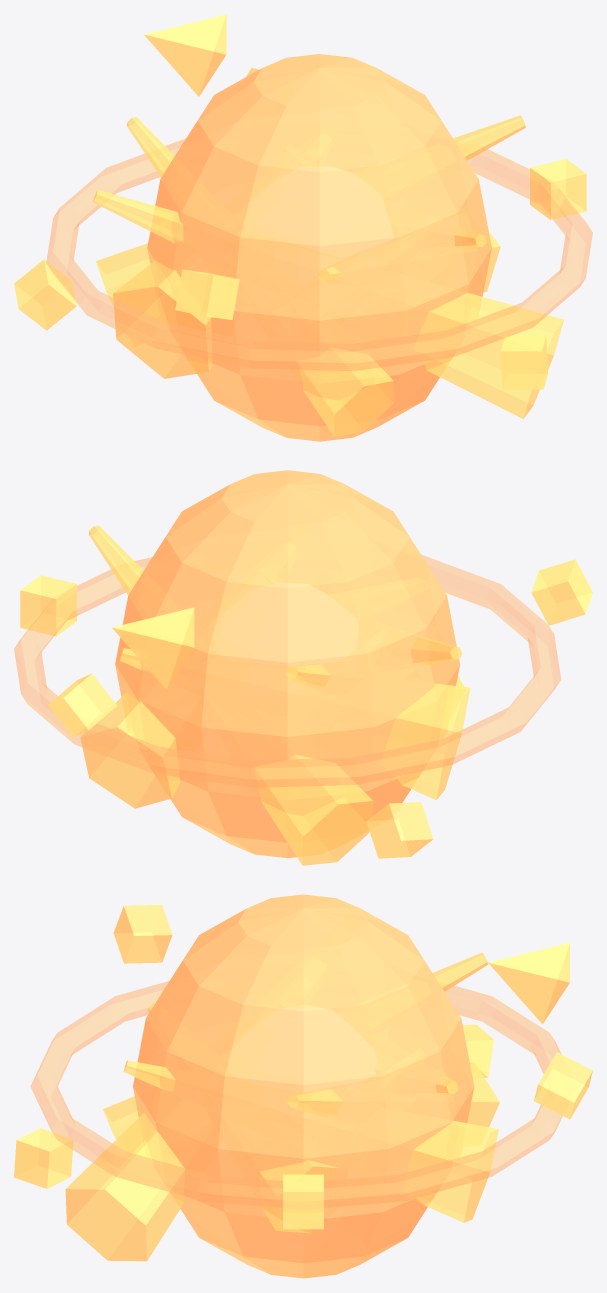
The model's file is vanishing_gradient_wisp.glb.
3 views of the same model, one above another, from view 1: azimuth 30°, elevation 25°; view 2: azimuth 150°, elevation 25°; view 3: azimuth 270°, elevation 25° (orthographic).
Visible parts, largest first — view 1: WispCore, WispAura, Tendril_4, Tendril_2, Tendril_3, GradientArrow, Tendril_1, GradFrag_0, GradFrag_2, GradFrag_3, GradFrag_4, WispInnerCore (+2 smaller); view 2: WispCore, WispAura, Tendril_1, Tendril_0, Tendril_2, GradientArrow, GradFrag_0, GradFrag_2, GradFrag_3, GradFrag_1, Tendril_4, WispInnerCore (+1 smaller); view 3: WispCore, WispAura, Tendril_4, Tendril_0, GradientArrow, GradFrag_3, GradFrag_4, GradFrag_1, Tendril_1, GradFrag_0, Tendril_5, Tendril_3 (+2 smaller).
Boxes of the visible parts, x1,y1,x2,y2 form: WispCore: (147, 54, 491, 441); WispAura: (46, 138, 592, 371); Tendril_4: (93, 190, 563, 418); Tendril_2: (113, 260, 212, 378); Tendril_3: (127, 117, 393, 436); GradientArrow: (144, 14, 226, 96); Tendril_1: (96, 115, 525, 306); GradFrag_0: (530, 159, 586, 219); GradFrag_2: (14, 259, 76, 330); GradFrag_3: (175, 269, 239, 319); GradFrag_4: (501, 335, 548, 389); WispInnerCore: (255, 167, 392, 253); WispCore: (115, 470, 459, 858); WispAura: (14, 555, 560, 787); Tendril_1: (89, 525, 373, 865); Tendril_0: (80, 692, 180, 808); Tendril_2: (120, 648, 470, 800); GradientArrow: (112, 607, 194, 689); GradFrag_0: (20, 575, 76, 636); GradFrag_2: (366, 802, 433, 858); GradFrag_3: (531, 559, 592, 625); GradFrag_1: (48, 673, 117, 737); Tendril_4: (410, 637, 462, 665); WispInnerCore: (225, 587, 357, 665); WispCore: (133, 894, 474, 1278); WispAura: (30, 981, 562, 1208); Tendril_4: (65, 1113, 184, 1261); Tendril_0: (123, 1060, 498, 1222); GradientArrow: (488, 942, 569, 1024); GradFrag_3: (113, 905, 172, 963); GradFrag_4: (14, 1128, 73, 1188); GradFrag_1: (534, 1052, 592, 1119); Tendril_1: (287, 1063, 499, 1127); GradFrag_0: (283, 1174, 323, 1229); Tendril_5: (148, 1003, 339, 1233); Tendril_3: (103, 952, 488, 1139).
Size of the model in its own units: 0.83 by 0.575 by 0.8477.
